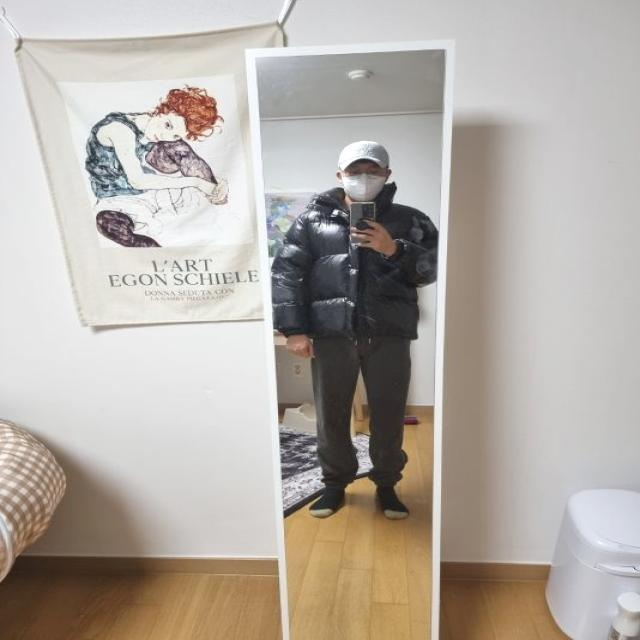padding: (272, 181, 438, 339)
slacks: (312, 337, 412, 491)
